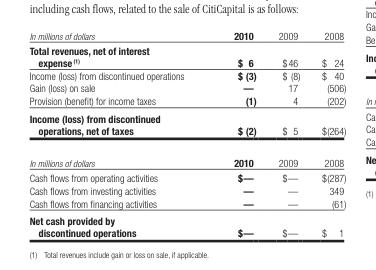table: (28, 28, 345, 238)
table column: (28, 28, 208, 238), (208, 28, 266, 238), (266, 28, 310, 238), (310, 28, 345, 238)
table column header: (28, 28, 345, 42)
table projected row header: (28, 109, 345, 124), (28, 211, 345, 226), (28, 42, 345, 55)
table row: (28, 146, 345, 169), (28, 124, 345, 146), (28, 94, 345, 109), (28, 109, 345, 124), (28, 196, 345, 211), (28, 211, 345, 226), (28, 28, 345, 42), (28, 169, 345, 183), (28, 42, 345, 55), (28, 55, 345, 68), (28, 68, 345, 81), (28, 81, 345, 94), (28, 183, 345, 196), (28, 226, 345, 238)
